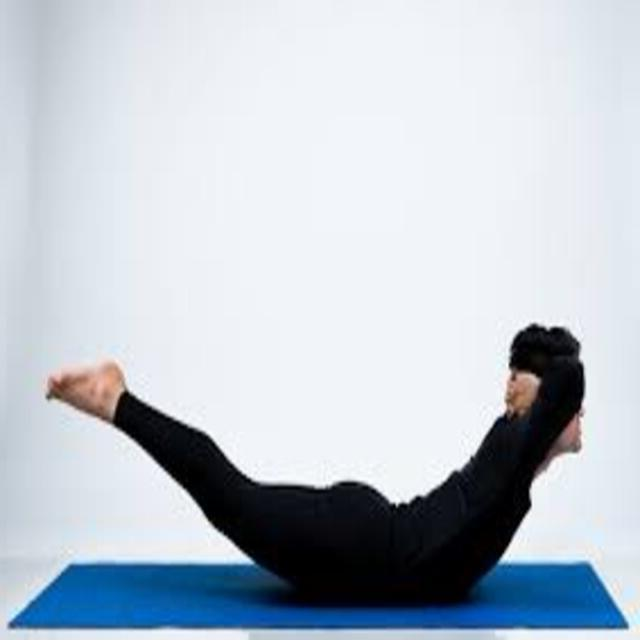Locust_Pose: (44, 325, 586, 608)
